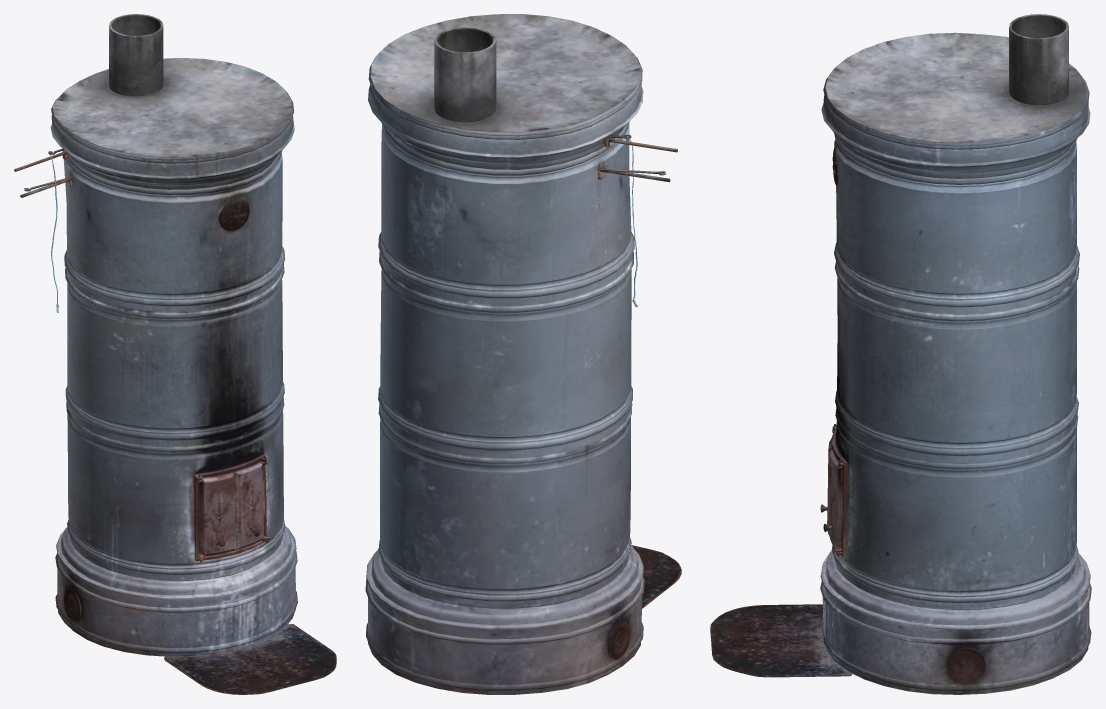
Rendered from scandinavian_masonry_heater.glb.
3 renders of one model, left to right at view 1: azimuth 30°, elevation 25°; view 2: azimuth 150°, elevation 25°; view 3: azimuth 270°, elevation 25°, orthographic. The views are drawn at different scales.
Visible parts, largest first — view 1: scandinavian_masonry_heater; view 2: scandinavian_masonry_heater; view 3: scandinavian_masonry_heater.
Part boxes in pixels (x1,y1,x2,y2): scandinavian_masonry_heater: (14,14,336,694); scandinavian_masonry_heater: (365,14,681,694); scandinavian_masonry_heater: (710,14,1091,694).
Size of the model in its own units: 1.17 by 2.36 by 1.34.
Materials: 1 (1 with a texture image).
